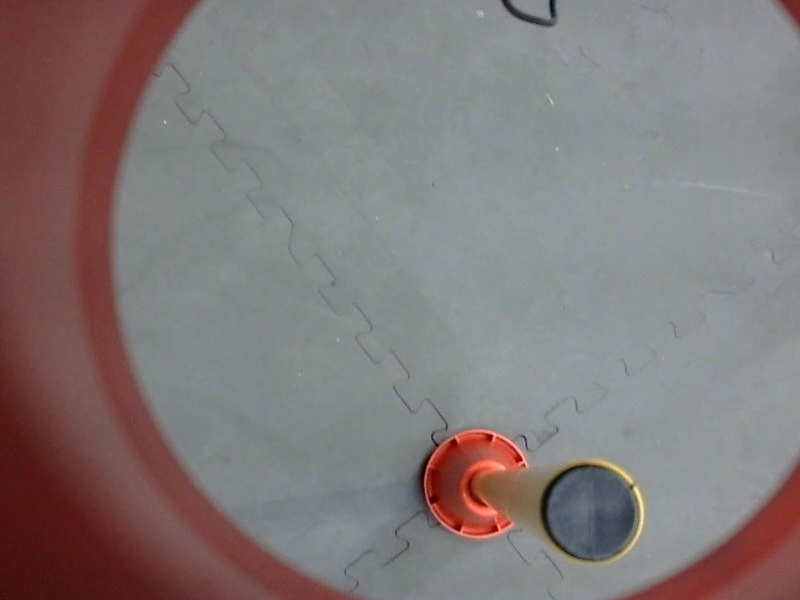tip: (537, 452, 652, 572)
